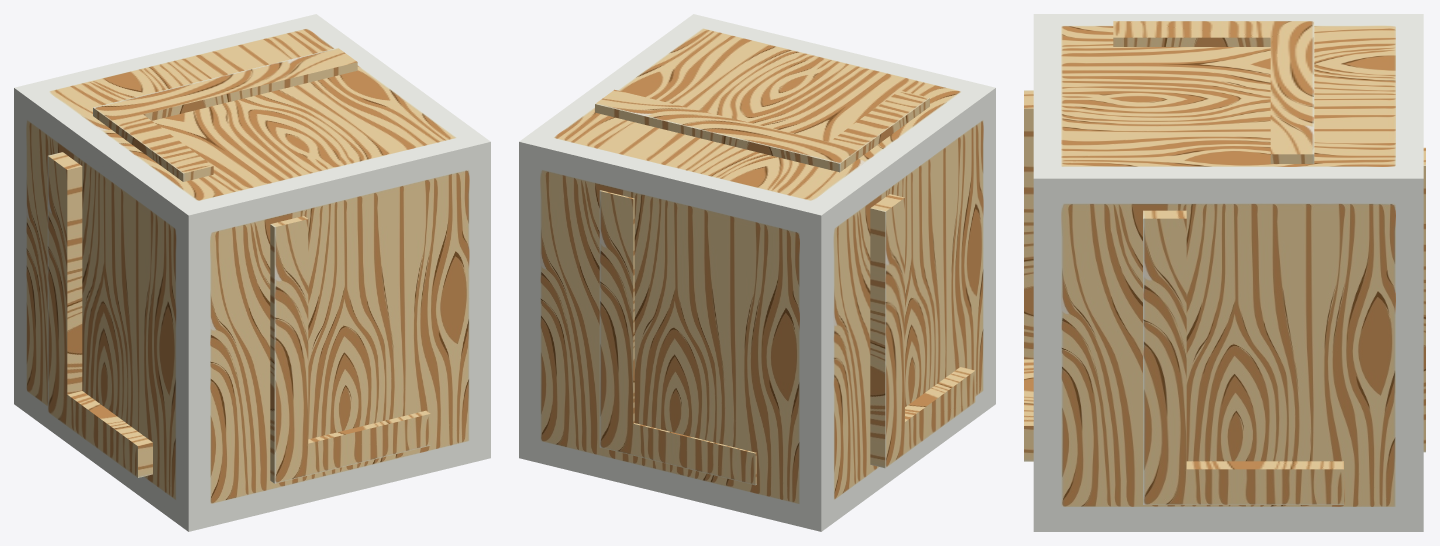
Rendered from Block L.fbx.
The picture shows the model from 3 angles, left to right: view 1: azimuth 30°, elevation 25°; view 2: azimuth 150°, elevation 25°; view 3: azimuth 270°, elevation 25°; orthographic projection. The views are drawn at different scales.
Visible parts, largest first — view 1: Box, FRONT, LEFT, TOP; view 2: Box, BACK, LEFT, TOP; view 3: Box, RIGHT, TOP, FRONT, BACK.
Boxes of the visible parts, x1,y1,x2,y2 form: Box: (14,14,490,531); FRONT: (270,216,430,483); LEFT: (47,152,152,477); TOP: (93,48,357,181); Box: (519,14,995,531); BACK: (599,190,756,485); LEFT: (870,194,975,468); TOP: (595,89,929,172); Box: (1033,14,1423,531); RIGHT: (1143,210,1343,504); TOP: (1113,21,1314,163); FRONT: (1024,90,1033,461); BACK: (1423,147,1425,452).
Bounding box in the file's own units: 1.1 × 1.04 × 1.03.
2 materials, 2 textured.
